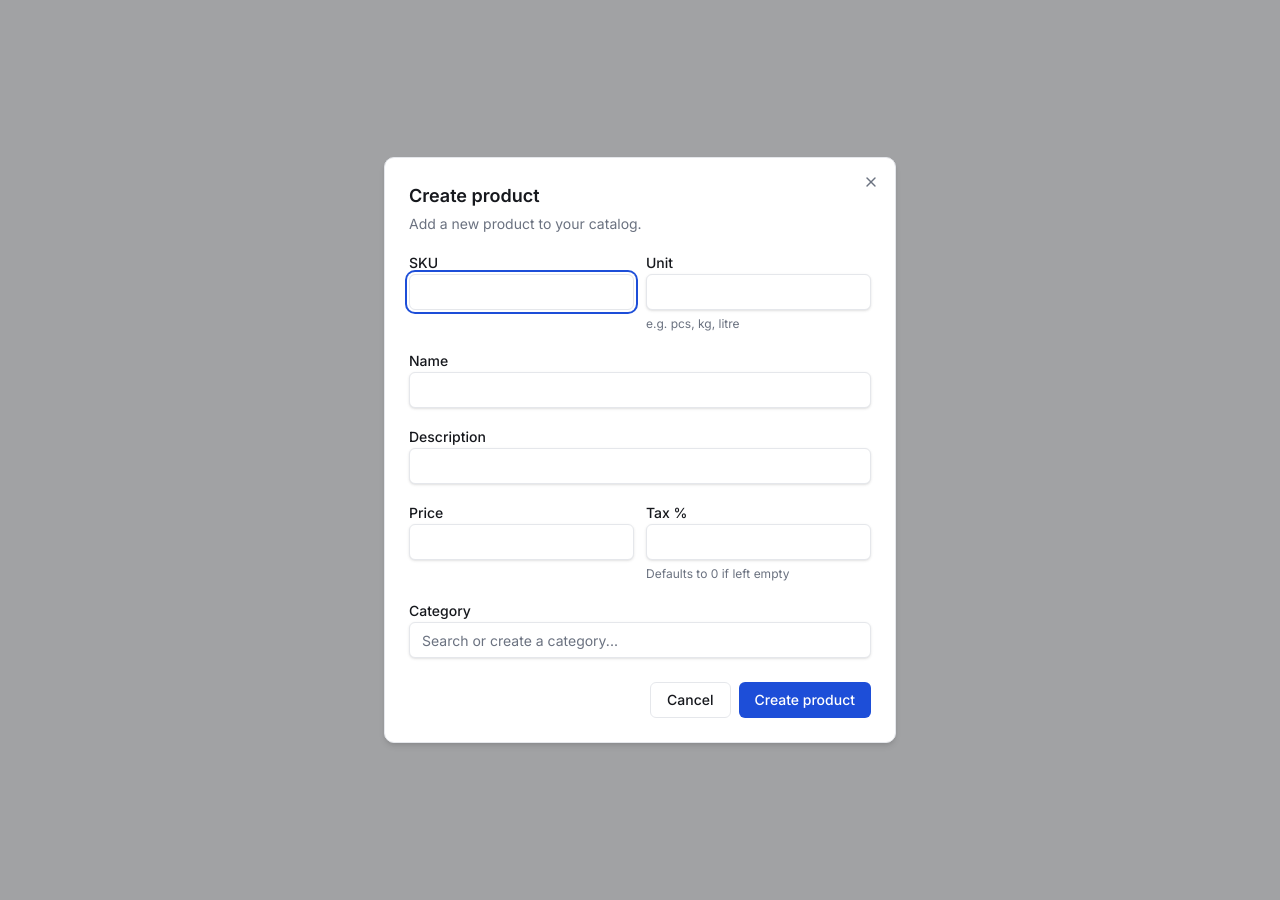
Test: ProductFormDialog › surfaces a DUPLICATE_SKU error on the SKU field instead of a generic alert
Type "SKU-1" into the field labelled "SKU" at (522, 292), box [409,274,634,310]
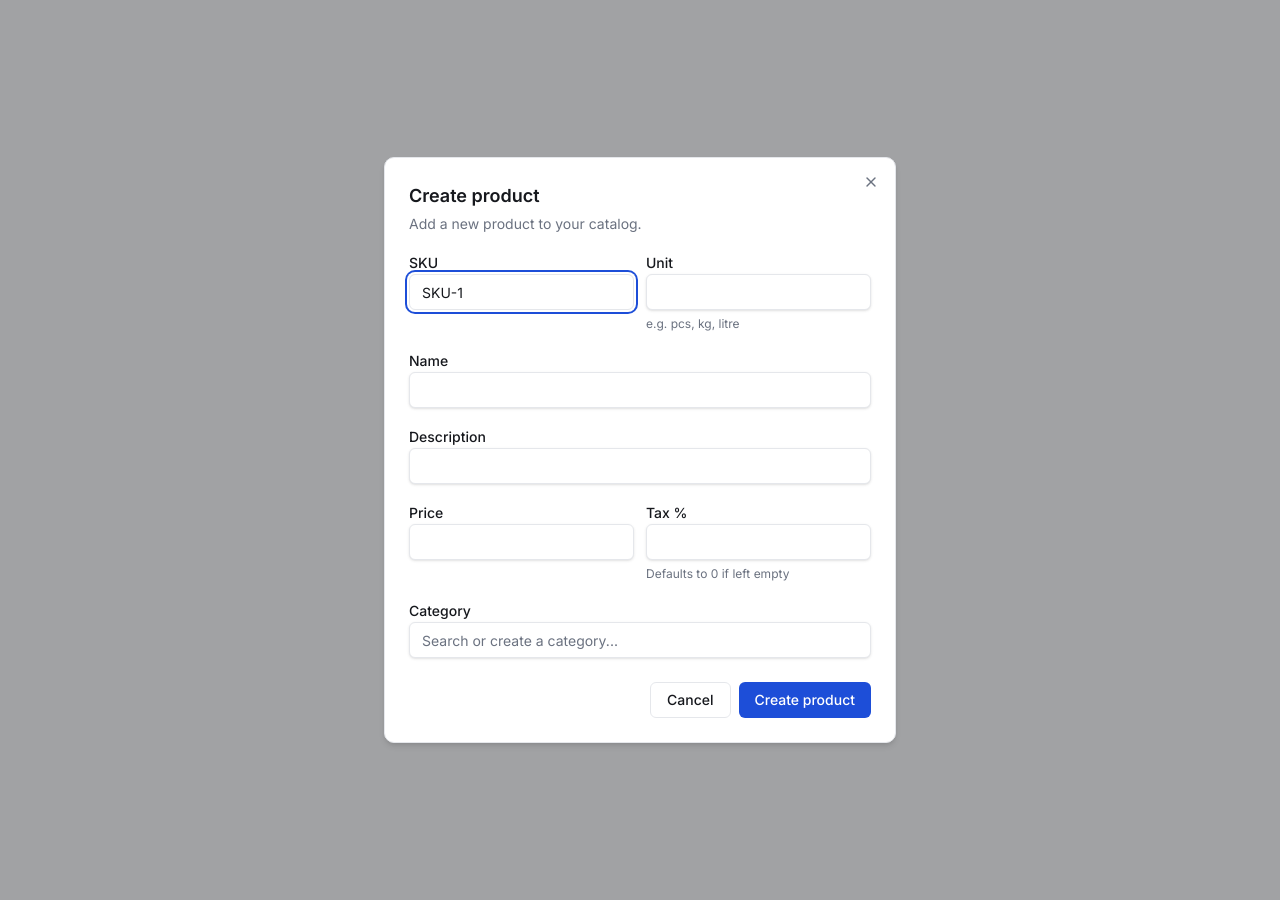
Type "Widget" into the field labelled "Name" at (640, 390), box [409,372,871,408]
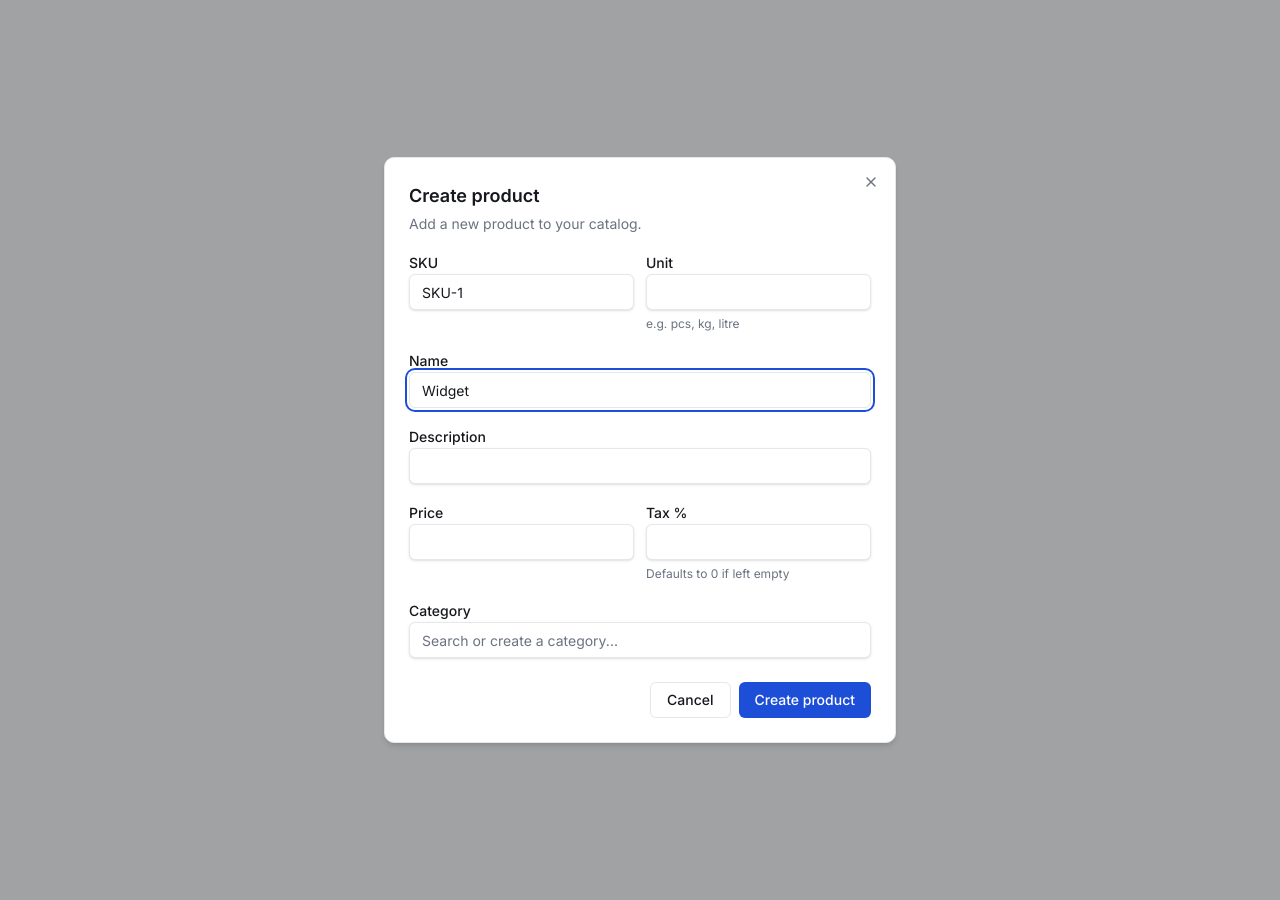
Type "pcs" into the field labelled "Unit" at (758, 292), box [646,274,871,310]
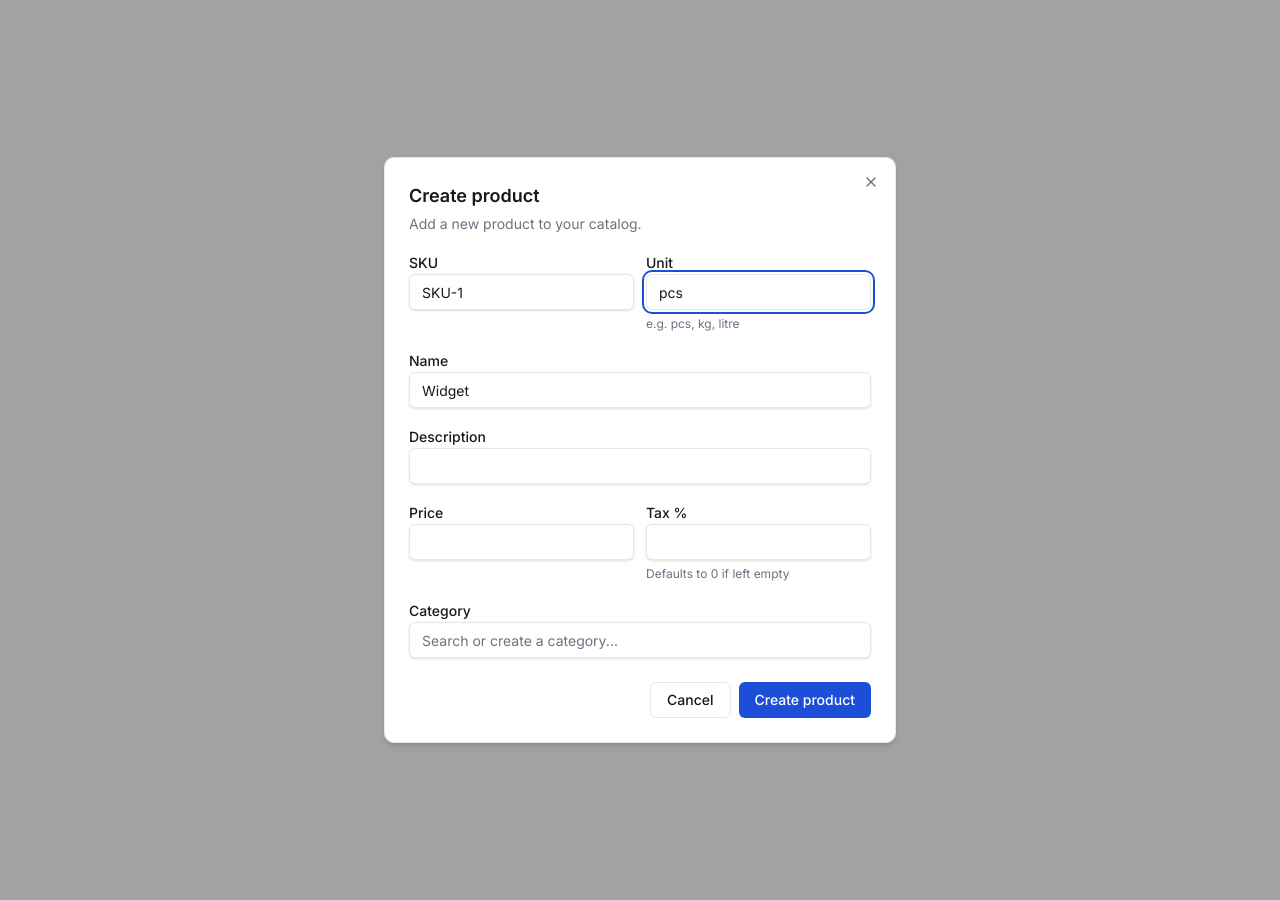
Type "100" into the field labelled "Price" at (522, 542), box [409,524,634,560]
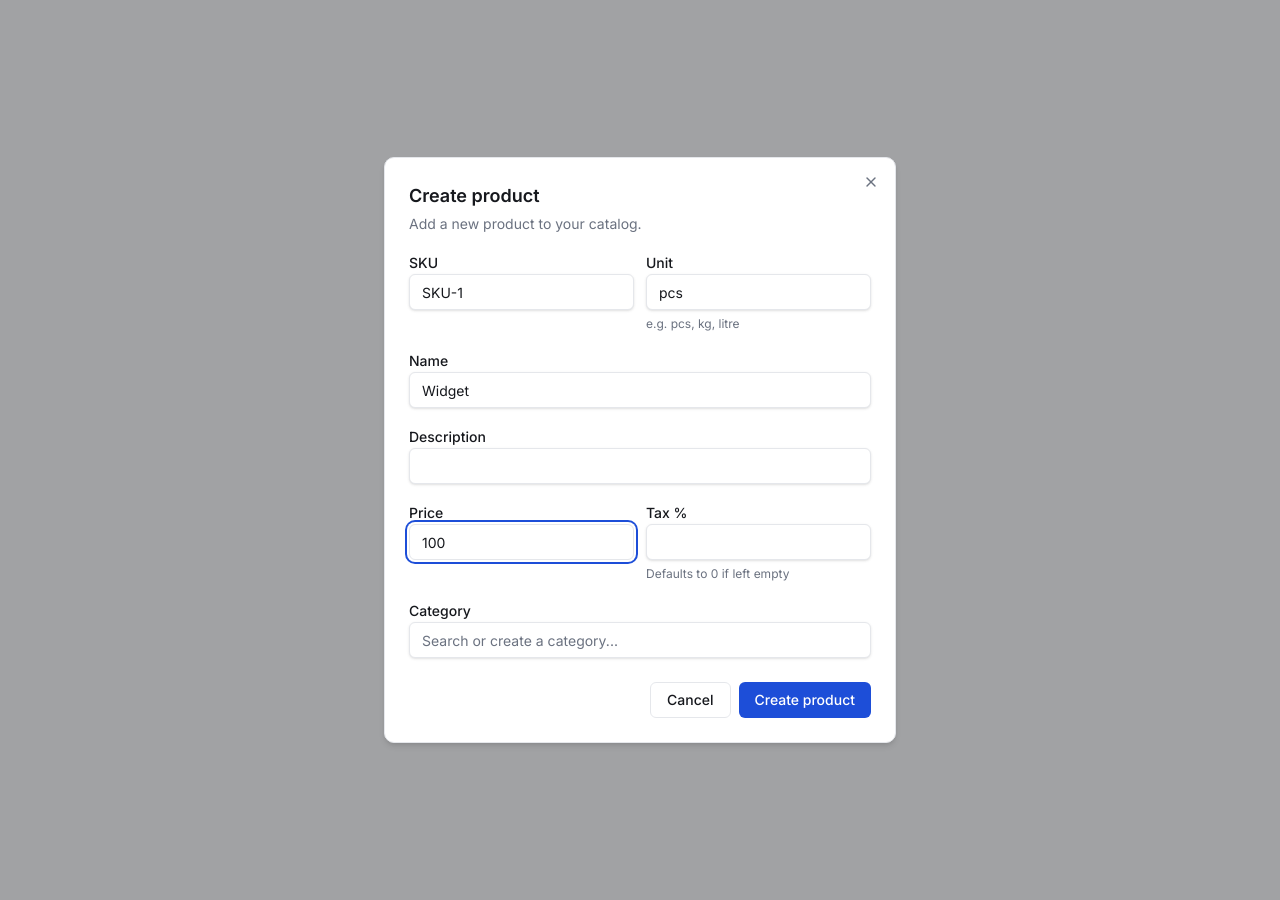
Click the button "Create product" at (805, 700), box [738,682,871,718]
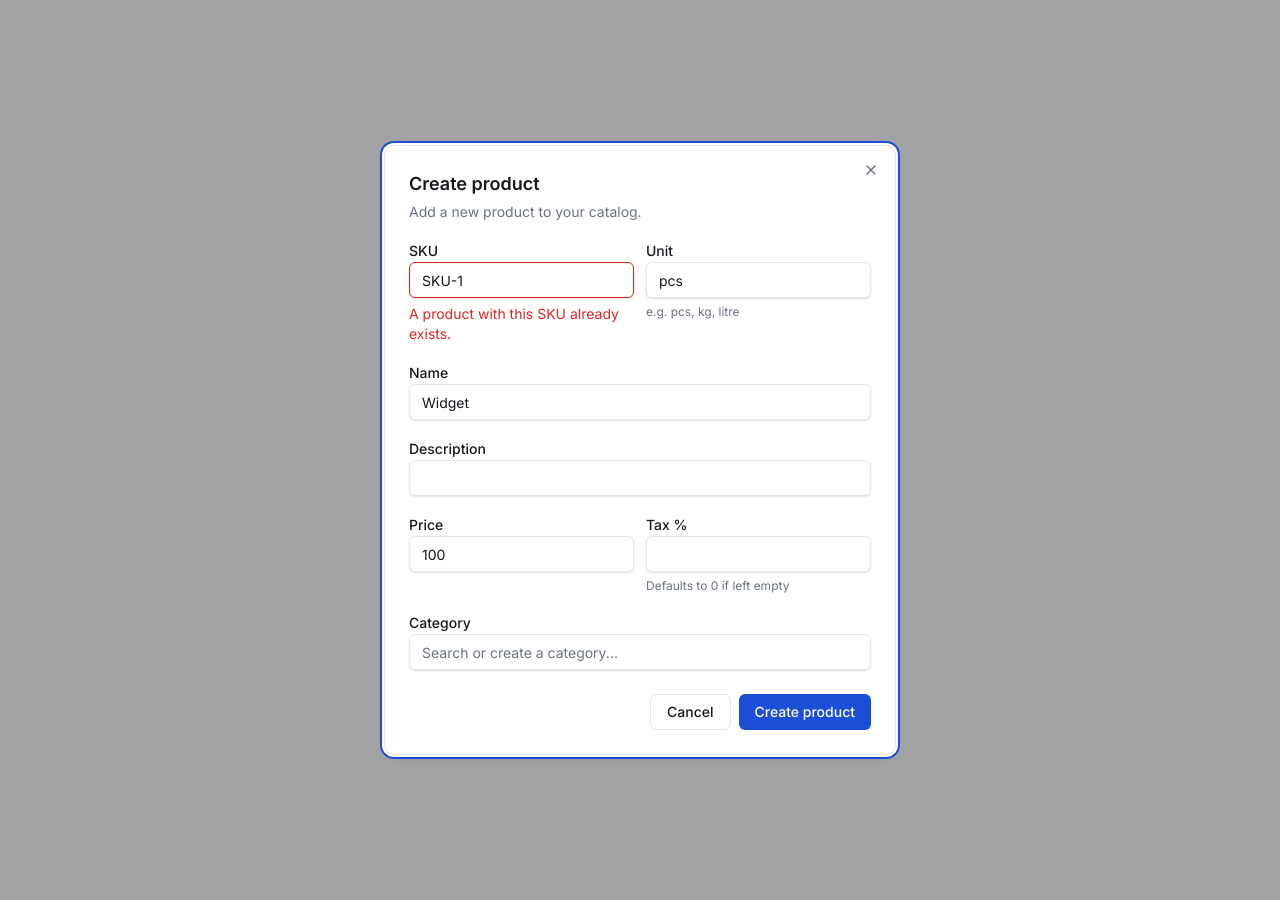
Check: the text "A product with this SKU already exists." is shown, box [409,304,634,344]
